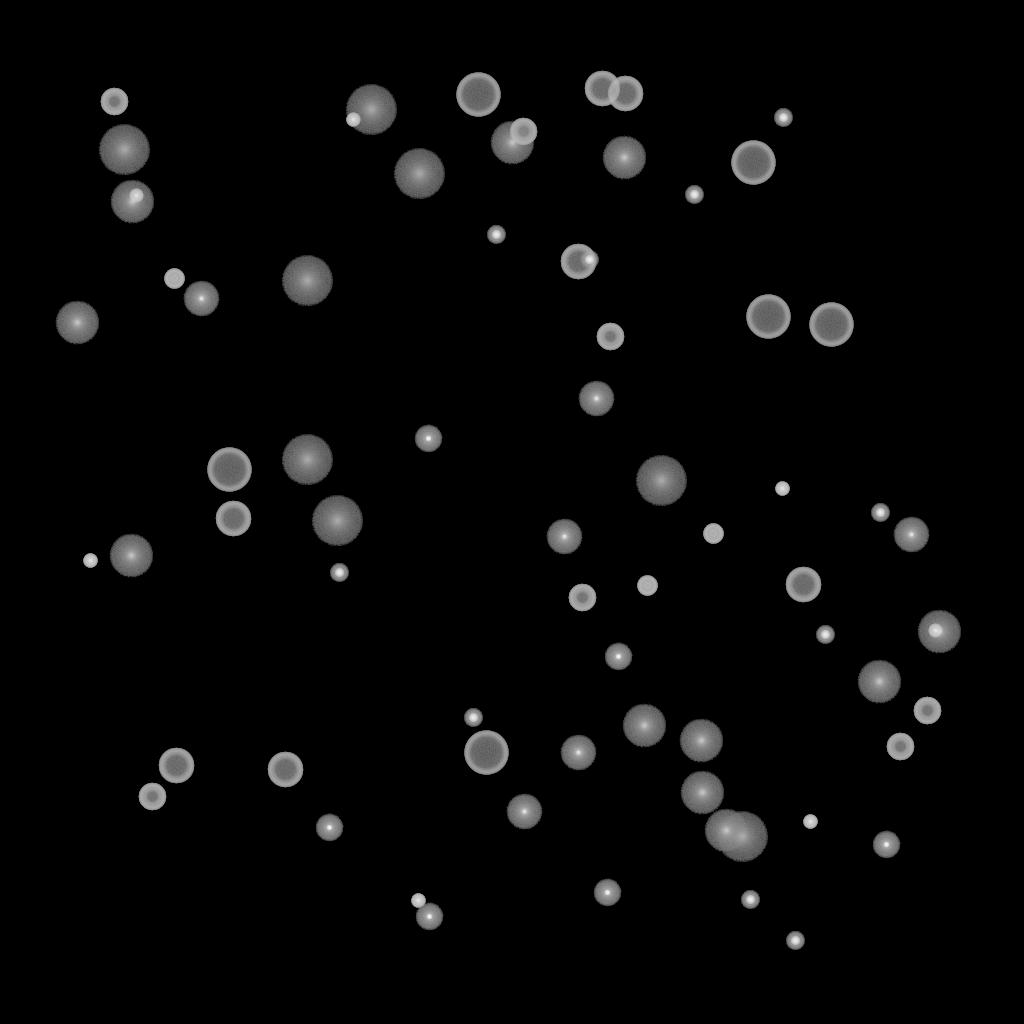depth:-10: (604, 643, 632, 671), (315, 814, 343, 842), (593, 879, 621, 907), (872, 831, 900, 859), (415, 903, 443, 931), (414, 425, 442, 453)
depth:-20: (487, 226, 505, 244), (816, 626, 834, 644), (580, 251, 598, 269), (871, 504, 889, 522), (741, 891, 759, 909), (464, 709, 482, 727), (330, 564, 348, 582), (774, 109, 792, 127), (685, 186, 703, 204), (786, 932, 804, 950)
depth:-30: (803, 815, 817, 829), (83, 554, 97, 568), (775, 482, 789, 496), (411, 894, 425, 908), (928, 624, 942, 638), (346, 113, 360, 127), (129, 189, 143, 203)
depth:-40: (637, 576, 657, 596), (164, 269, 184, 289), (703, 524, 723, 544)
depth:-50: (596, 323, 624, 351), (568, 584, 596, 612), (913, 697, 941, 725), (100, 88, 128, 116), (138, 783, 166, 811), (886, 733, 914, 761), (509, 118, 537, 146)
depth:-60: (607, 76, 643, 112), (584, 71, 620, 107), (215, 501, 251, 537), (267, 752, 303, 788), (785, 567, 821, 603), (158, 748, 194, 784), (560, 244, 596, 280)
depth:-70: (746, 295, 790, 339), (731, 141, 775, 185), (207, 448, 251, 492), (464, 731, 508, 775), (456, 73, 500, 117), (809, 303, 853, 347)
depth:0: (893, 517, 929, 553), (578, 381, 614, 417), (546, 519, 582, 555), (560, 735, 596, 771), (506, 794, 542, 830), (183, 281, 219, 317)
depth:10: (622, 704, 666, 748), (109, 534, 153, 578), (917, 610, 961, 654), (857, 660, 901, 704), (110, 180, 154, 224), (602, 136, 646, 180), (679, 719, 723, 763), (55, 301, 99, 345), (680, 771, 724, 815), (490, 121, 534, 165), (704, 809, 748, 853)
depth:20: (311, 496, 363, 546), (281, 435, 333, 485), (393, 149, 445, 199), (716, 812, 768, 862), (98, 125, 150, 175), (345, 85, 397, 135), (281, 256, 333, 306), (635, 456, 687, 506)
